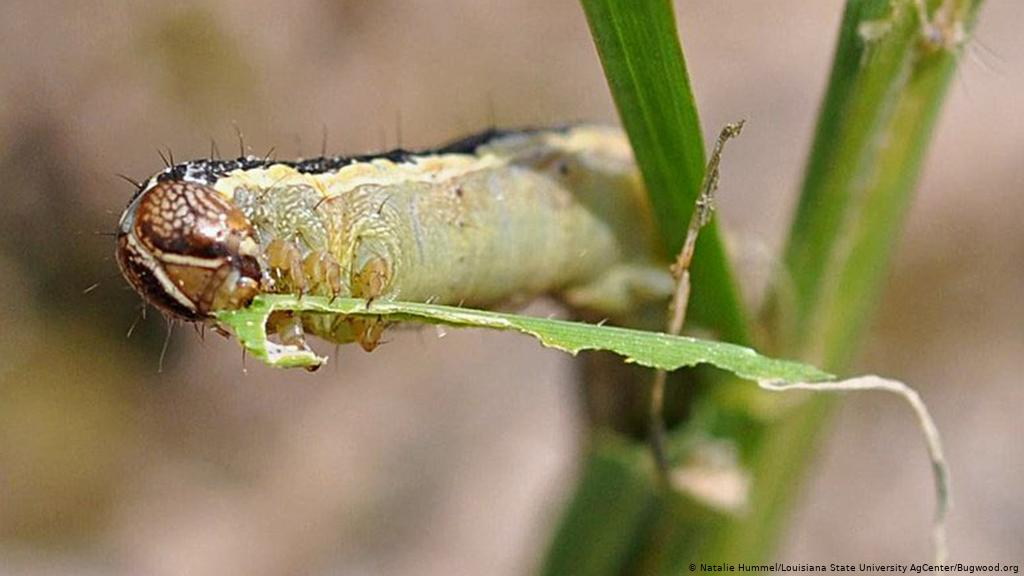Armyworm: (109, 109, 754, 398)
